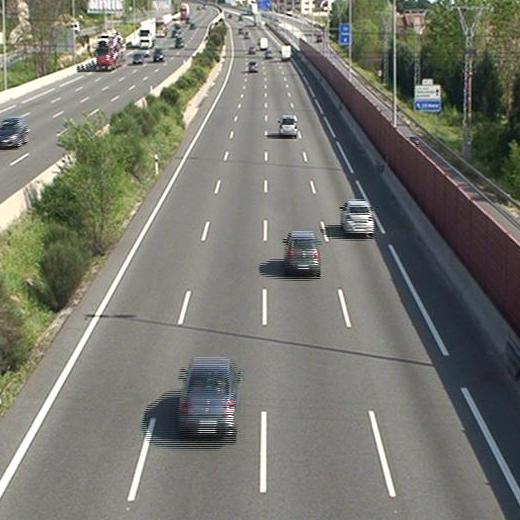car: (179, 358, 237, 436), (286, 231, 319, 274), (342, 201, 374, 233), (279, 116, 298, 135), (248, 61, 258, 71)
van: (280, 44, 292, 60)
